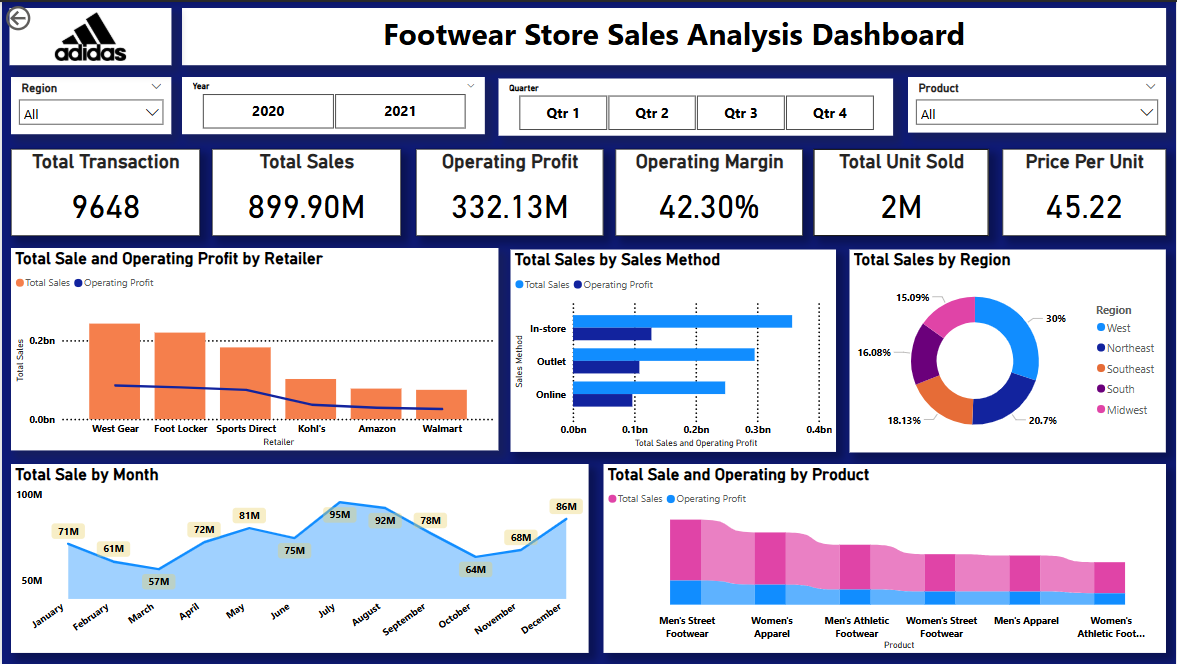

What the dashboard file says about the page in this screenshot:
{"tool":"powerbi","page":{"name":"Page 1","canvas":[1450,820],"ordinal":0},"visuals":[{"type":"textbox","box":[222.3,7.4,1215.2,70.4],"z":0},{"type":"slicer","fields":{"Values":["Data Sales Adidas.Region"]},"box":[11.1,92.4,198.2,70.4],"z":1000},{"type":"slicer","fields":{"Values":["Data Sales Adidas.Invoice Date.Variation.Date Hierarchy.Year"]},"box":[222.3,92.4,374.2,70.4],"z":2000},{"type":"slicer","fields":{"Values":["Data Sales Adidas.Invoice Date.Variation.Date Hierarchy.Quarter"]},"box":[613.2,94.3,487.2,70.4],"z":3000},{"type":"slicer","fields":{"Values":["Data Sales Adidas.Product"]},"box":[1118.9,92.4,318.6,68.5],"z":4000},{"type":"card","title":"Total Transaction","fields":{"Values":["CountNonNull(Data Sales Adidas.Invoice Date)"]},"box":[11.2,181.3,233.4,107.4],"z":5000},{"type":"card","title":"Total Sales","fields":{"Values":["Sum(Data Sales Adidas.Total Sales)"]},"box":[259.4,181.3,233.4,107.4],"z":6000},{"type":"card","title":"Operating Profit","fields":{"Values":["Sum(Data Sales Adidas.Operating Profit)"]},"box":[511.4,181.3,231.6,107.4],"z":7000},{"type":"card","title":"Operating Margin","fields":{"Values":["Avg(Data Sales Adidas.Operating Margin)"]},"box":[757.8,181.3,231.6,107.4],"z":8000},{"type":"card","title":"Total Unit Sold","fields":{"Values":["Sum(Data Sales Adidas.Units Sold)"]},"box":[1002.3,181.3,216.7,107.4],"z":9000},{"type":"card","title":"Price Per Unit","fields":{"Values":["Avg(Data Sales Adidas.Price per Unit)"]},"box":[1235.7,181.3,201.9,107.4],"z":10000},{"type":"lineStackedColumnComboChart","title":"Total Sale and Operating Profit by Retailer","fields":{"Category":["Data Sales Adidas.Retailer"],"Y":["Sum(Data Sales Adidas.Total Sales)"],"Y2":["Sum(Data Sales Adidas.Operating Profit)"]},"box":[11.1,303.8,602,250.1],"z":11000},{"type":"clusteredBarChart","title":"Total Sales by Sales Method","fields":{"Y":["Sum(Data Sales Adidas.Total Sales)","Sum(Data Sales Adidas.Operating Profit)"],"Category":["Data Sales Adidas.Sales Method"]},"box":[628,305.7,402,250.1],"z":12000},{"type":"donutChart","title":"Total Sales by Region","fields":{"Y":["Sum(Data Sales Adidas.Total Sales)"],"Category":["Data Sales Adidas.Region"]},"box":[1047.2,305.3,390.6,250.9],"z":13000},{"type":"areaChart","title":"Total Sale by Month","fields":{"Category":["Data Sales Adidas.Invoice Date.Variation.Date Hierarchy.Month"],"Y":["Sum(Data Sales Adidas.Total Sales)"]},"box":[11.1,570.6,713.2,233.4],"z":14000},{"type":"ribbonChart","title":"Total Sale and Operating by Product","fields":{"Y":["Sum(Data Sales Adidas.Total Sales)","Sum(Data Sales Adidas.Operating Profit)"],"Category":["Data Sales Adidas.Product"]},"box":[742.8,570.6,694.7,233.4],"z":15000},{"type":"image","box":[9.3,7.4,200.1,70.4],"z":16000},{"type":"actionButton","box":[0,0,100,40],"z":16001}]}

Visuals, with their boxes in screenshot pixels (x1, y1, x2, y2), scaled from the page's 1450x820 canvas onto the 1177x664 screenshot:
textbox: x1=180, y1=6, x2=1167, y2=63
slicer - Data Sales Adidas.Region: x1=9, y1=75, x2=170, y2=132
slicer - Data Sales Adidas.Invoice Date.Variation.Date Hierarchy.Year: x1=180, y1=75, x2=484, y2=132
slicer - Data Sales Adidas.Invoice Date.Variation.Date Hierarchy.Quarter: x1=498, y1=76, x2=893, y2=133
slicer - Data Sales Adidas.Product: x1=908, y1=75, x2=1167, y2=130
"Total Transaction" card: x1=9, y1=147, x2=199, y2=234
"Total Sales" card: x1=211, y1=147, x2=400, y2=234
"Operating Profit" card: x1=415, y1=147, x2=603, y2=234
"Operating Margin" card: x1=615, y1=147, x2=803, y2=234
"Total Unit Sold" card: x1=814, y1=147, x2=989, y2=234
"Price Per Unit" card: x1=1003, y1=147, x2=1167, y2=234
"Total Sale and Operating Profit by Retailer" lineStackedColumnComboChart: x1=9, y1=246, x2=498, y2=449
"Total Sales by Sales Method" clusteredBarChart: x1=510, y1=248, x2=836, y2=450
"Total Sales by Region" donutChart: x1=850, y1=247, x2=1167, y2=450
"Total Sale by Month" areaChart: x1=9, y1=462, x2=588, y2=651
"Total Sale and Operating by Product" ribbonChart: x1=603, y1=462, x2=1167, y2=651
image: x1=8, y1=6, x2=170, y2=63
actionButton: x1=0, y1=0, x2=81, y2=32
